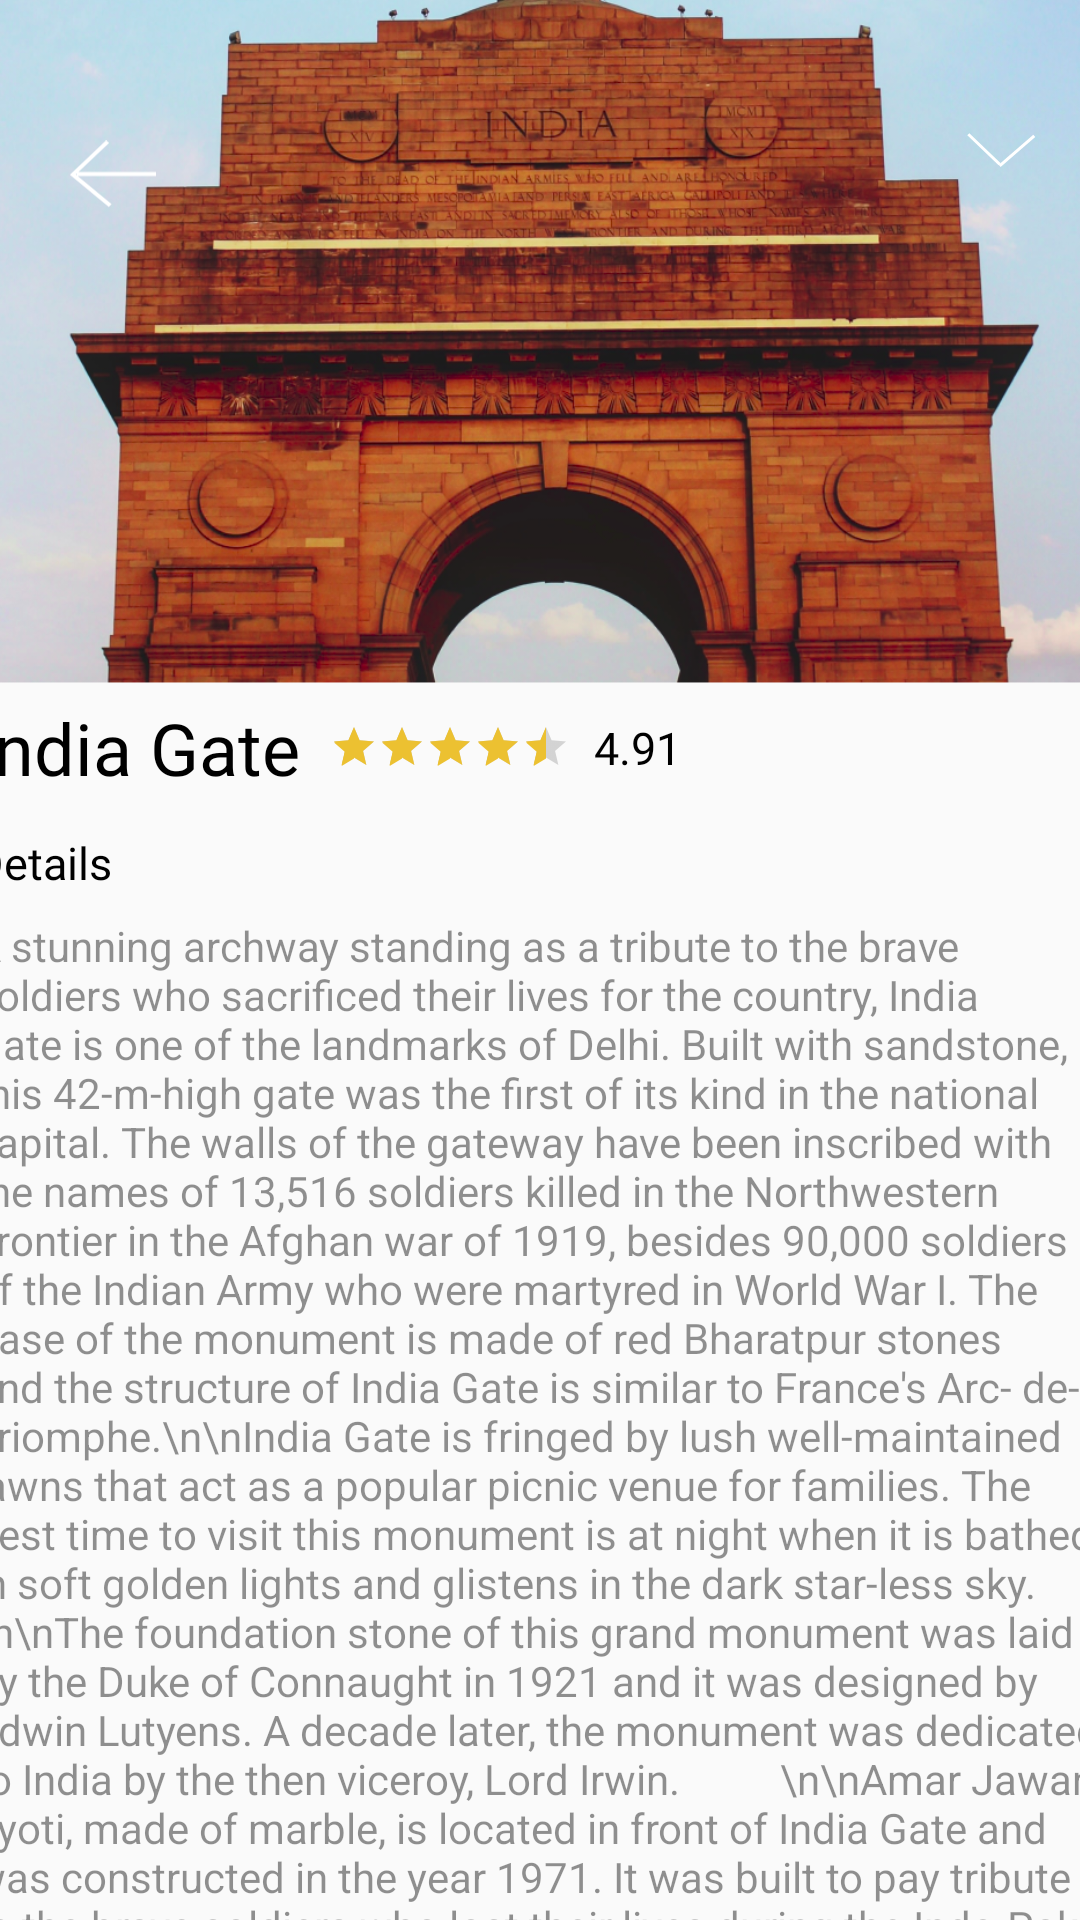

Icon bounding boxes for this 1080 x 1920 phone screenshot, format detection(x1, y1, x2, y2):
down arrow: detection(967, 133, 1035, 167)
left arrow: detection(70, 140, 156, 207)
